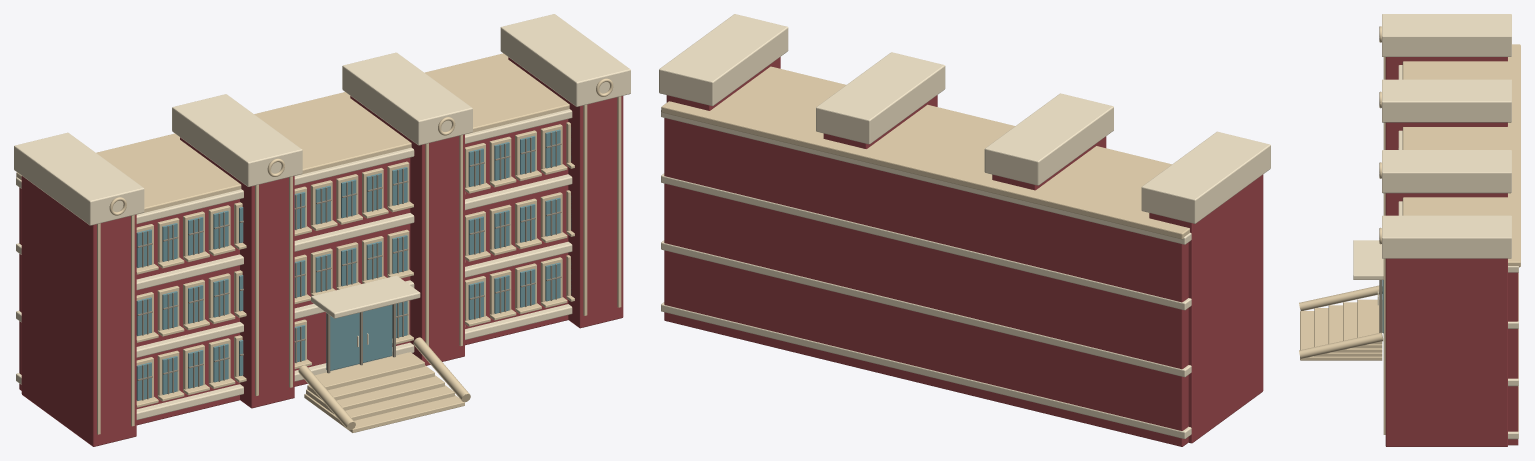
Rendered from research-building.glb.
The picture shows the model from 3 angles, left to right: view 1: azimuth 30°, elevation 25°; view 2: azimuth 150°, elevation 25°; view 3: azimuth 270°, elevation 25°; orthographic projection. The views are drawn at different scales.
Visible parts, largest first — view 1: projecting tower, roof slab, research block, projecting tower.003, projecting tower.002, projecting tower.001, tower crown, tower crown.001, tower crown.002, tower crown.003, limestone belt.002, limestone belt.003 (+19 smaller); view 2: research block, roof slab, projecting tower, tower crown.003, tower crown, tower crown.002, tower crown.001, limestone belt, limestone belt.001, limestone belt.002, limestone belt.003; view 3: projecting tower.003, roof slab, tower crown.001, tower crown.003, tower crown.002, tower crown, research block, canopy, entrance tread 04, projecting tower.001, entrance tread 00, projecting tower.002 (+8 smaller).
Boxes of the visible parts, bbox=[...] form: projecting tower: bbox=[21, 176, 136, 446]; roof slab: bbox=[16, 53, 569, 214]; research block: bbox=[19, 119, 568, 425]; projecting tower.003: bbox=[508, 57, 623, 328]; projecting tower.002: bbox=[350, 96, 464, 365]; projecting tower.001: bbox=[180, 137, 294, 408]; tower crown: bbox=[14, 132, 144, 225]; tower crown.001: bbox=[172, 94, 302, 186]; tower crown.002: bbox=[342, 52, 472, 145]; tower crown.003: bbox=[500, 14, 630, 106]; limestone belt.002: bbox=[16, 174, 572, 290]; limestone belt.003: bbox=[16, 109, 572, 223]; research block: bbox=[664, 118, 1188, 446]; roof slab: bbox=[661, 66, 1189, 239]; projecting tower: bbox=[1149, 174, 1263, 443]; tower crown.003: bbox=[659, 14, 788, 106]; tower crown: bbox=[1141, 131, 1270, 223]; tower crown.002: bbox=[816, 52, 945, 144]; tower crown.001: bbox=[984, 93, 1113, 185]; limestone belt: bbox=[661, 302, 1191, 438]; limestone belt.001: bbox=[661, 240, 1191, 377]; limestone belt.002: bbox=[661, 173, 1191, 310]; limestone belt.003: bbox=[661, 110, 1191, 244]; projecting tower.003: bbox=[1385, 258, 1507, 446]; roof slab: bbox=[1402, 44, 1520, 267]; tower crown.001: bbox=[1382, 79, 1511, 122]; tower crown.003: bbox=[1382, 215, 1511, 258]; tower crown.002: bbox=[1382, 150, 1511, 193]; tower crown: bbox=[1382, 14, 1511, 56]; research block: bbox=[1508, 272, 1518, 445]; canopy: bbox=[1353, 240, 1383, 279]; entrance tread 04: bbox=[1300, 311, 1382, 360]; projecting tower.001: bbox=[1385, 122, 1507, 149]; entrance tread 00: bbox=[1357, 299, 1382, 344]; projecting tower.002: bbox=[1385, 193, 1507, 215].
Size of the model in its own units: 8.9 by 3.92 by 3.72.
